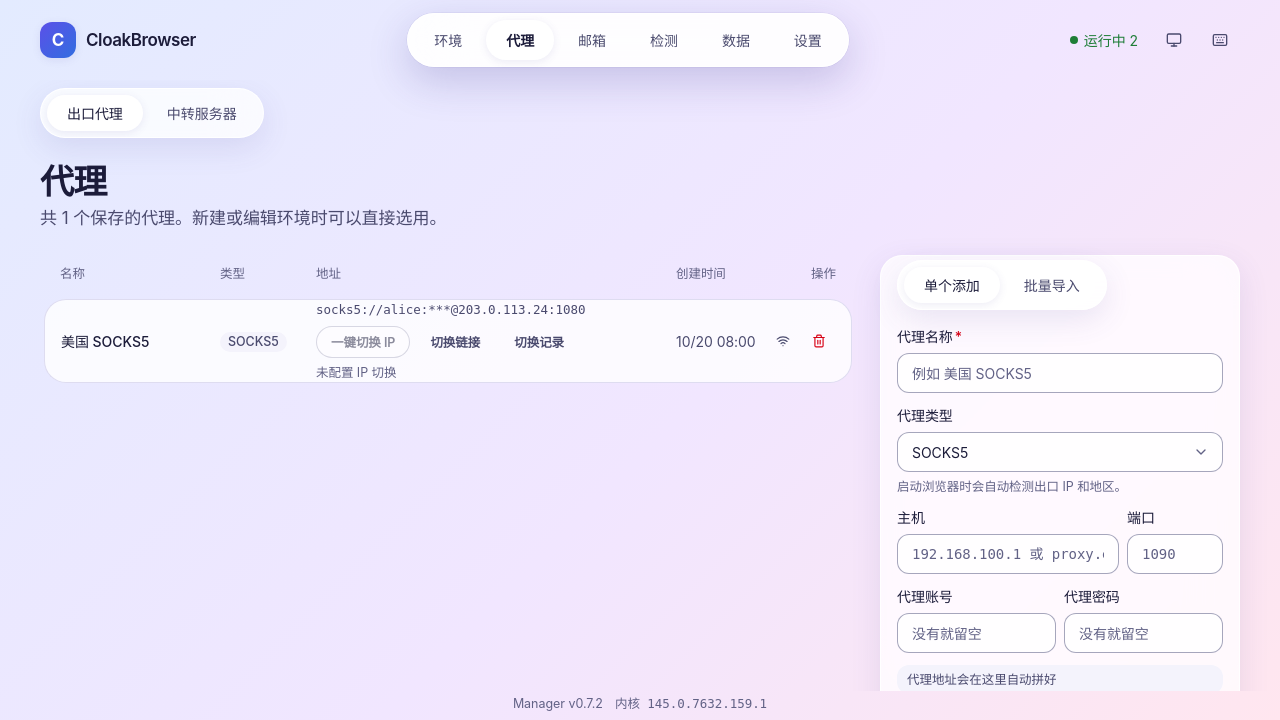
it: saves the refresh link without executing it and rotates through the Manager only
The width and height of the screenshot is (1280, 720).
Check: the heading "代理" is shown, box [40, 161, 106, 202]
Click the button "切换链接": (455, 342) [416, 326, 494, 358]
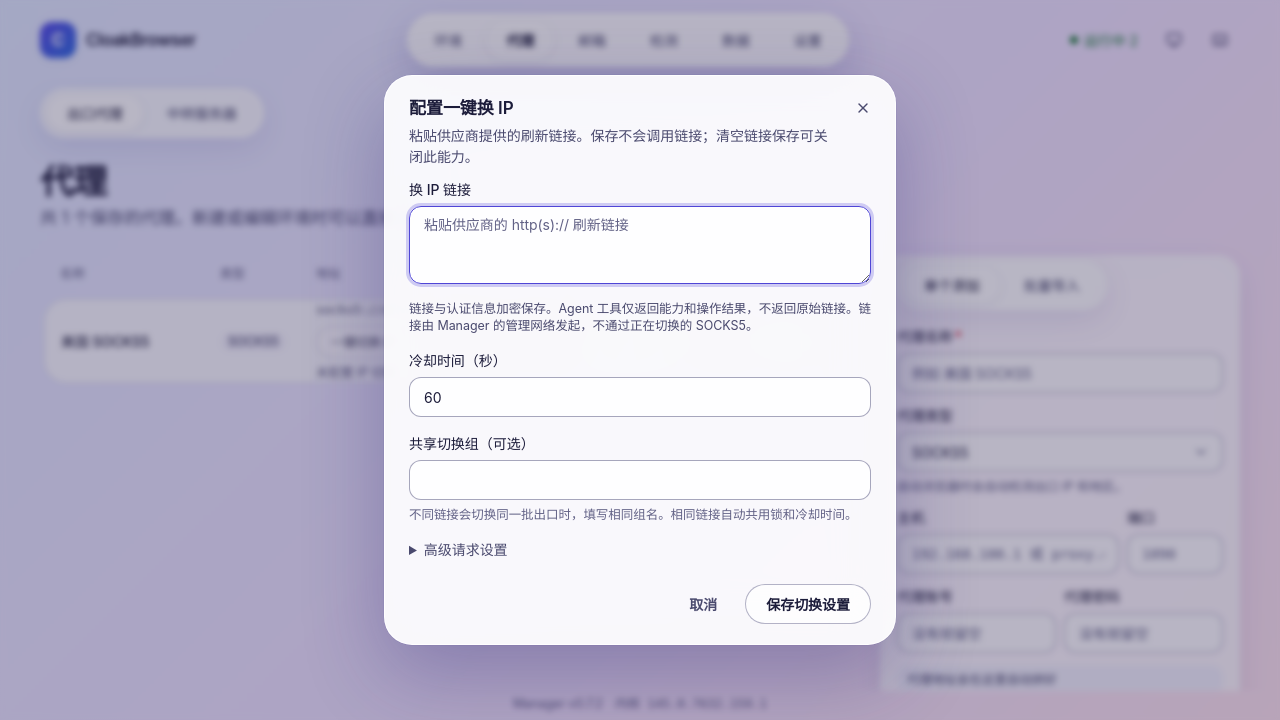
Check: the button "保存切换设置" is enabled, box [745, 584, 871, 624]
In the text box labelled "换 IP 链接": (640, 245) [409, 206, 871, 284], type "https://supplier.example/refresh?token=PRIVATE_SECRET"
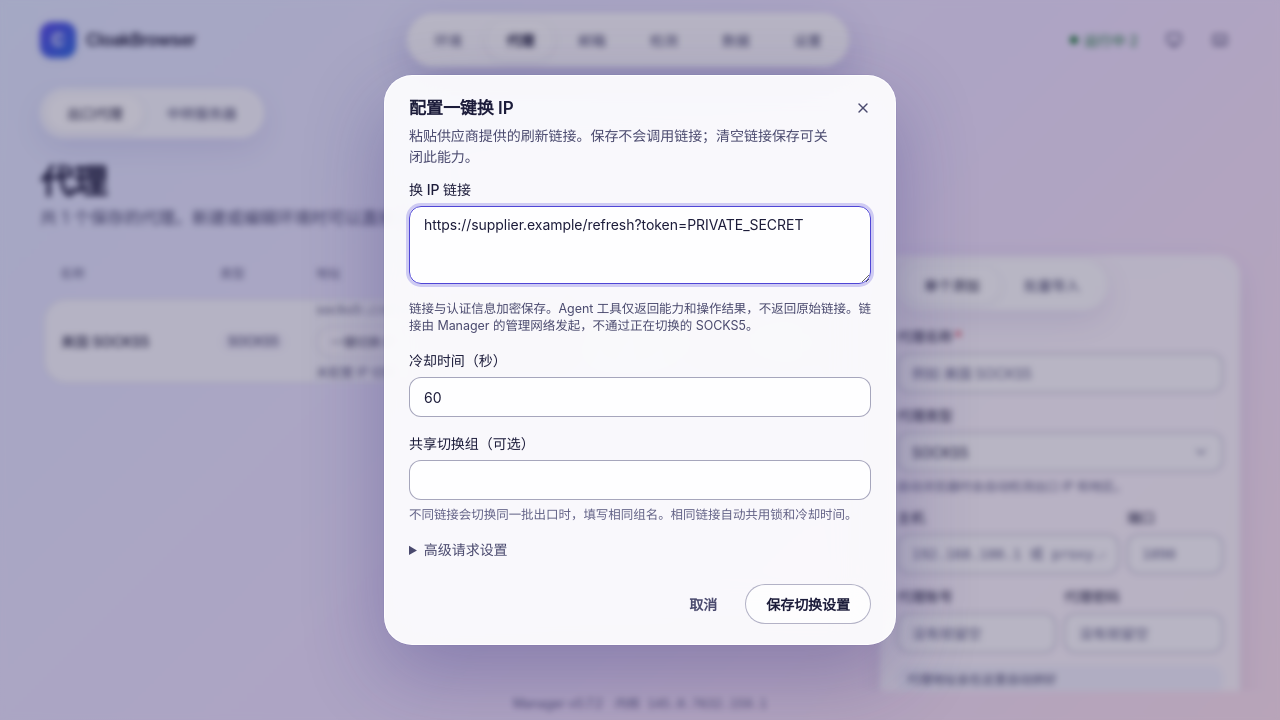
Click the button "保存切换设置": (808, 604) [745, 584, 871, 624]
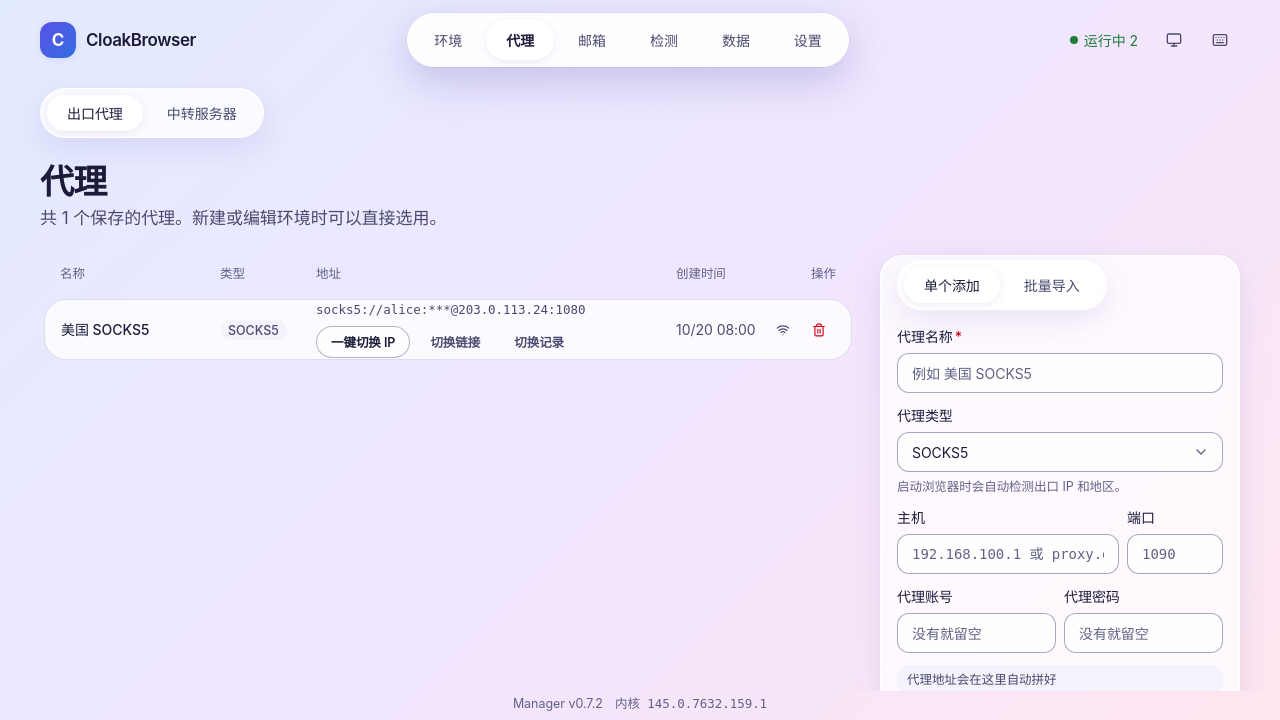
Check: the heading "配置一键换 IP" is gone
Check: the button "一键切换 IP" is enabled
Click the button "一键切换 IP": (363, 342) [316, 326, 410, 358]
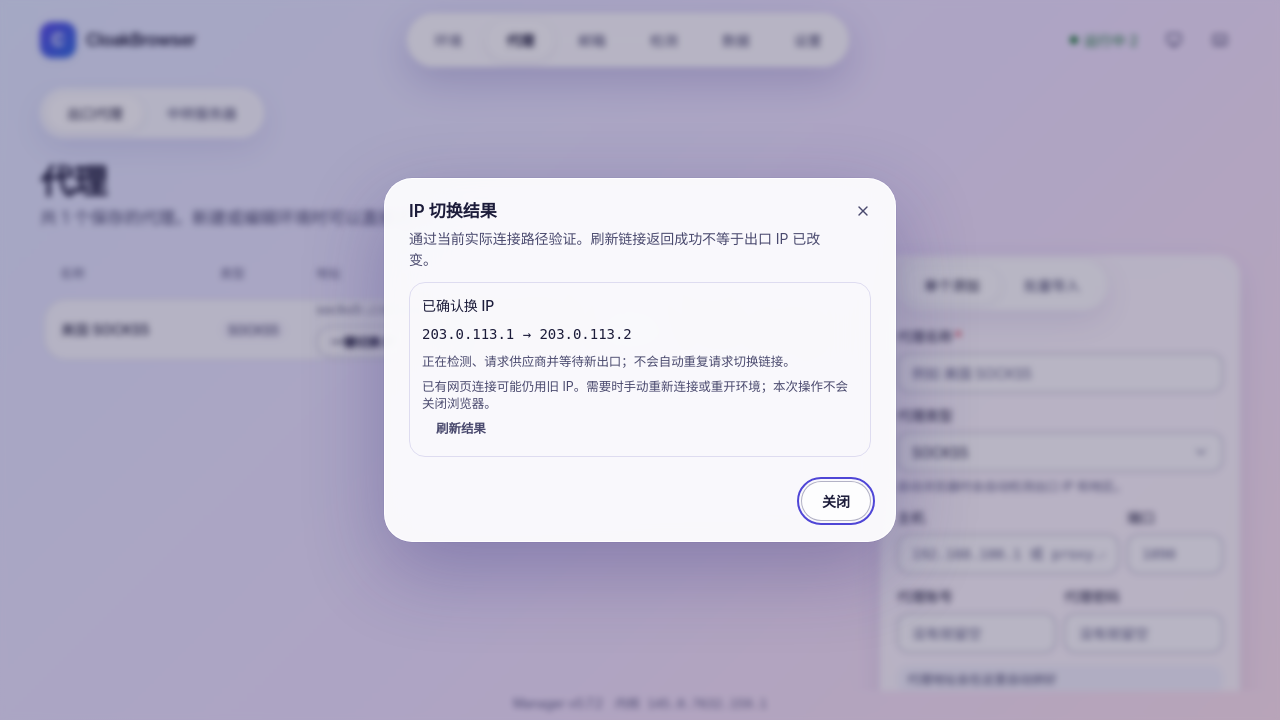
Check: the text "PRIVATE_SECRET" is not shown
Check: the text "已确认换 IP" is shown, box [422, 297, 494, 314]
Check: the text "203.0.113.1 → 203.0.113.2" is shown, box [422, 326, 632, 342]
